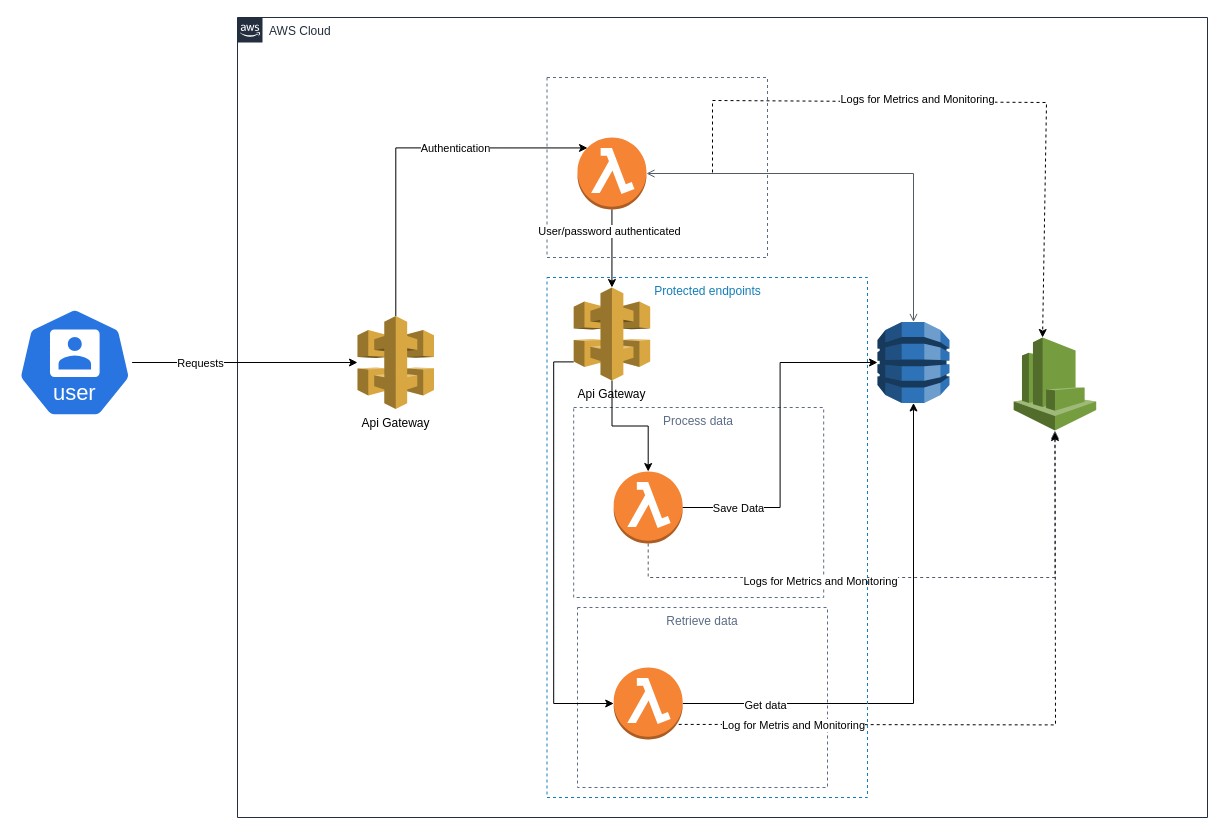
Some shapes in this 1225 by 835 pixel diagram are drawn without their labels. The shapes that lost their labels are listed below. From the top down, each one's box as (x1, y1, x2, y2) in pixels, then its label:
(546, 76, 768, 258): Check For Credentials
(876, 321, 950, 403): Dynamo DB
(1013, 336, 1096, 430): Cloud Watch
